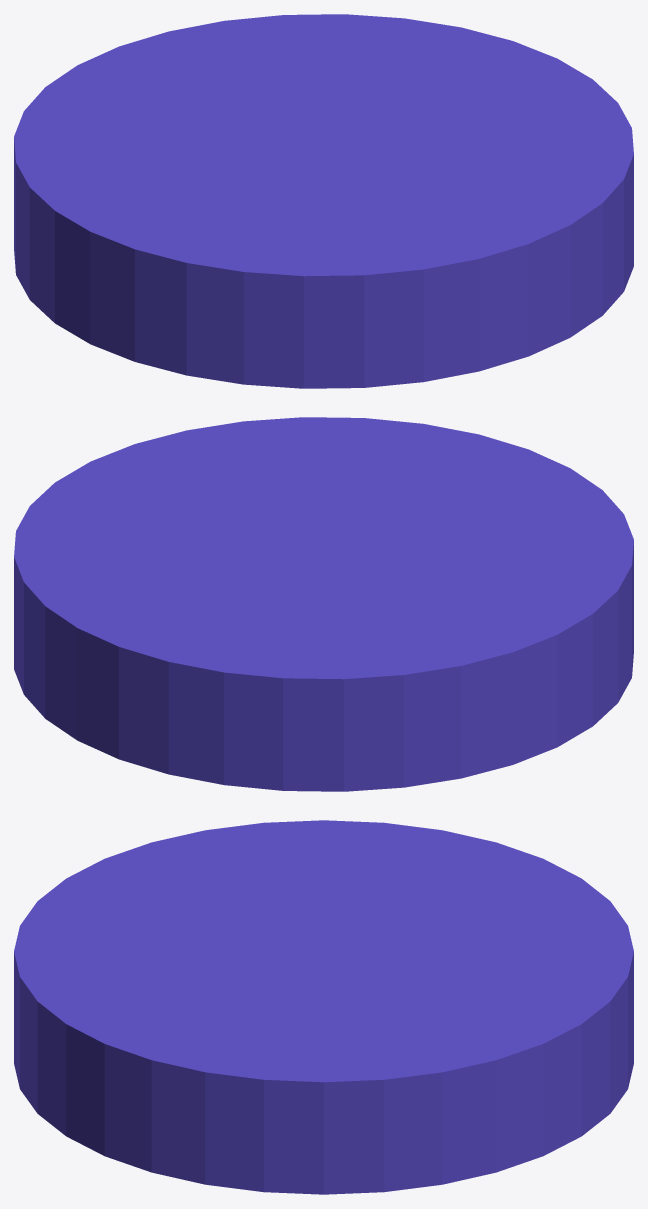
Rendered from note.fbx.
3 views of the same model, one above another, from view 1: azimuth 30°, elevation 25°; view 2: azimuth 150°, elevation 25°; view 3: azimuth 270°, elevation 25° (orthographic).
Parts seen in each view (by area): view 1: Cylinder; view 2: Cylinder; view 3: Cylinder.
Boxes of the visible parts, <box> form: Cylinder: <box>14,14,633,388</box>; Cylinder: <box>14,417,633,791</box>; Cylinder: <box>14,820,633,1194</box>.
Size of what is drawn, in the model's own units: 0.1597 by 0.0319 by 0.1597.
